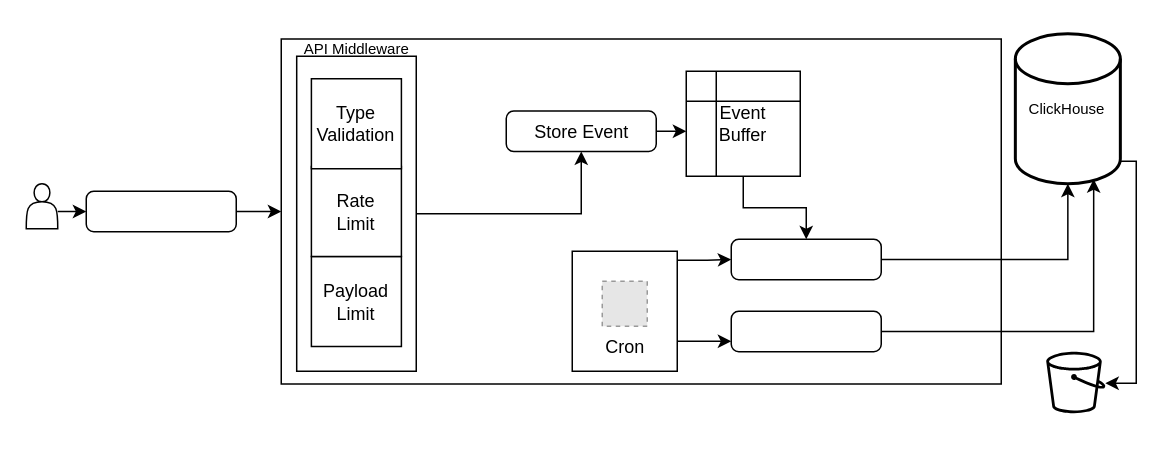
The diagram is 1175 pixels wide and 470 high, and some of its shapes have lost their labels. Grey dashed boxes stand in for pictures. Each missing label, with the box of its shape:
Backup: (730, 310, 881, 352)
Batch Insert: (730, 238, 881, 280)
S3: (1046, 351, 1105, 412)
Send Event: (85, 190, 236, 232)
